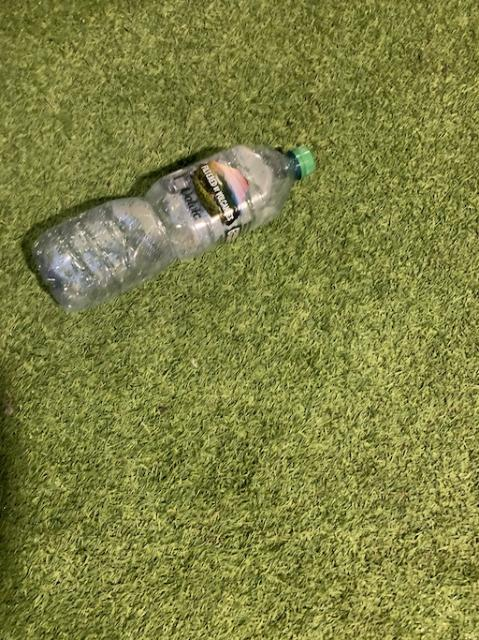plastic: (32, 144, 313, 309)
